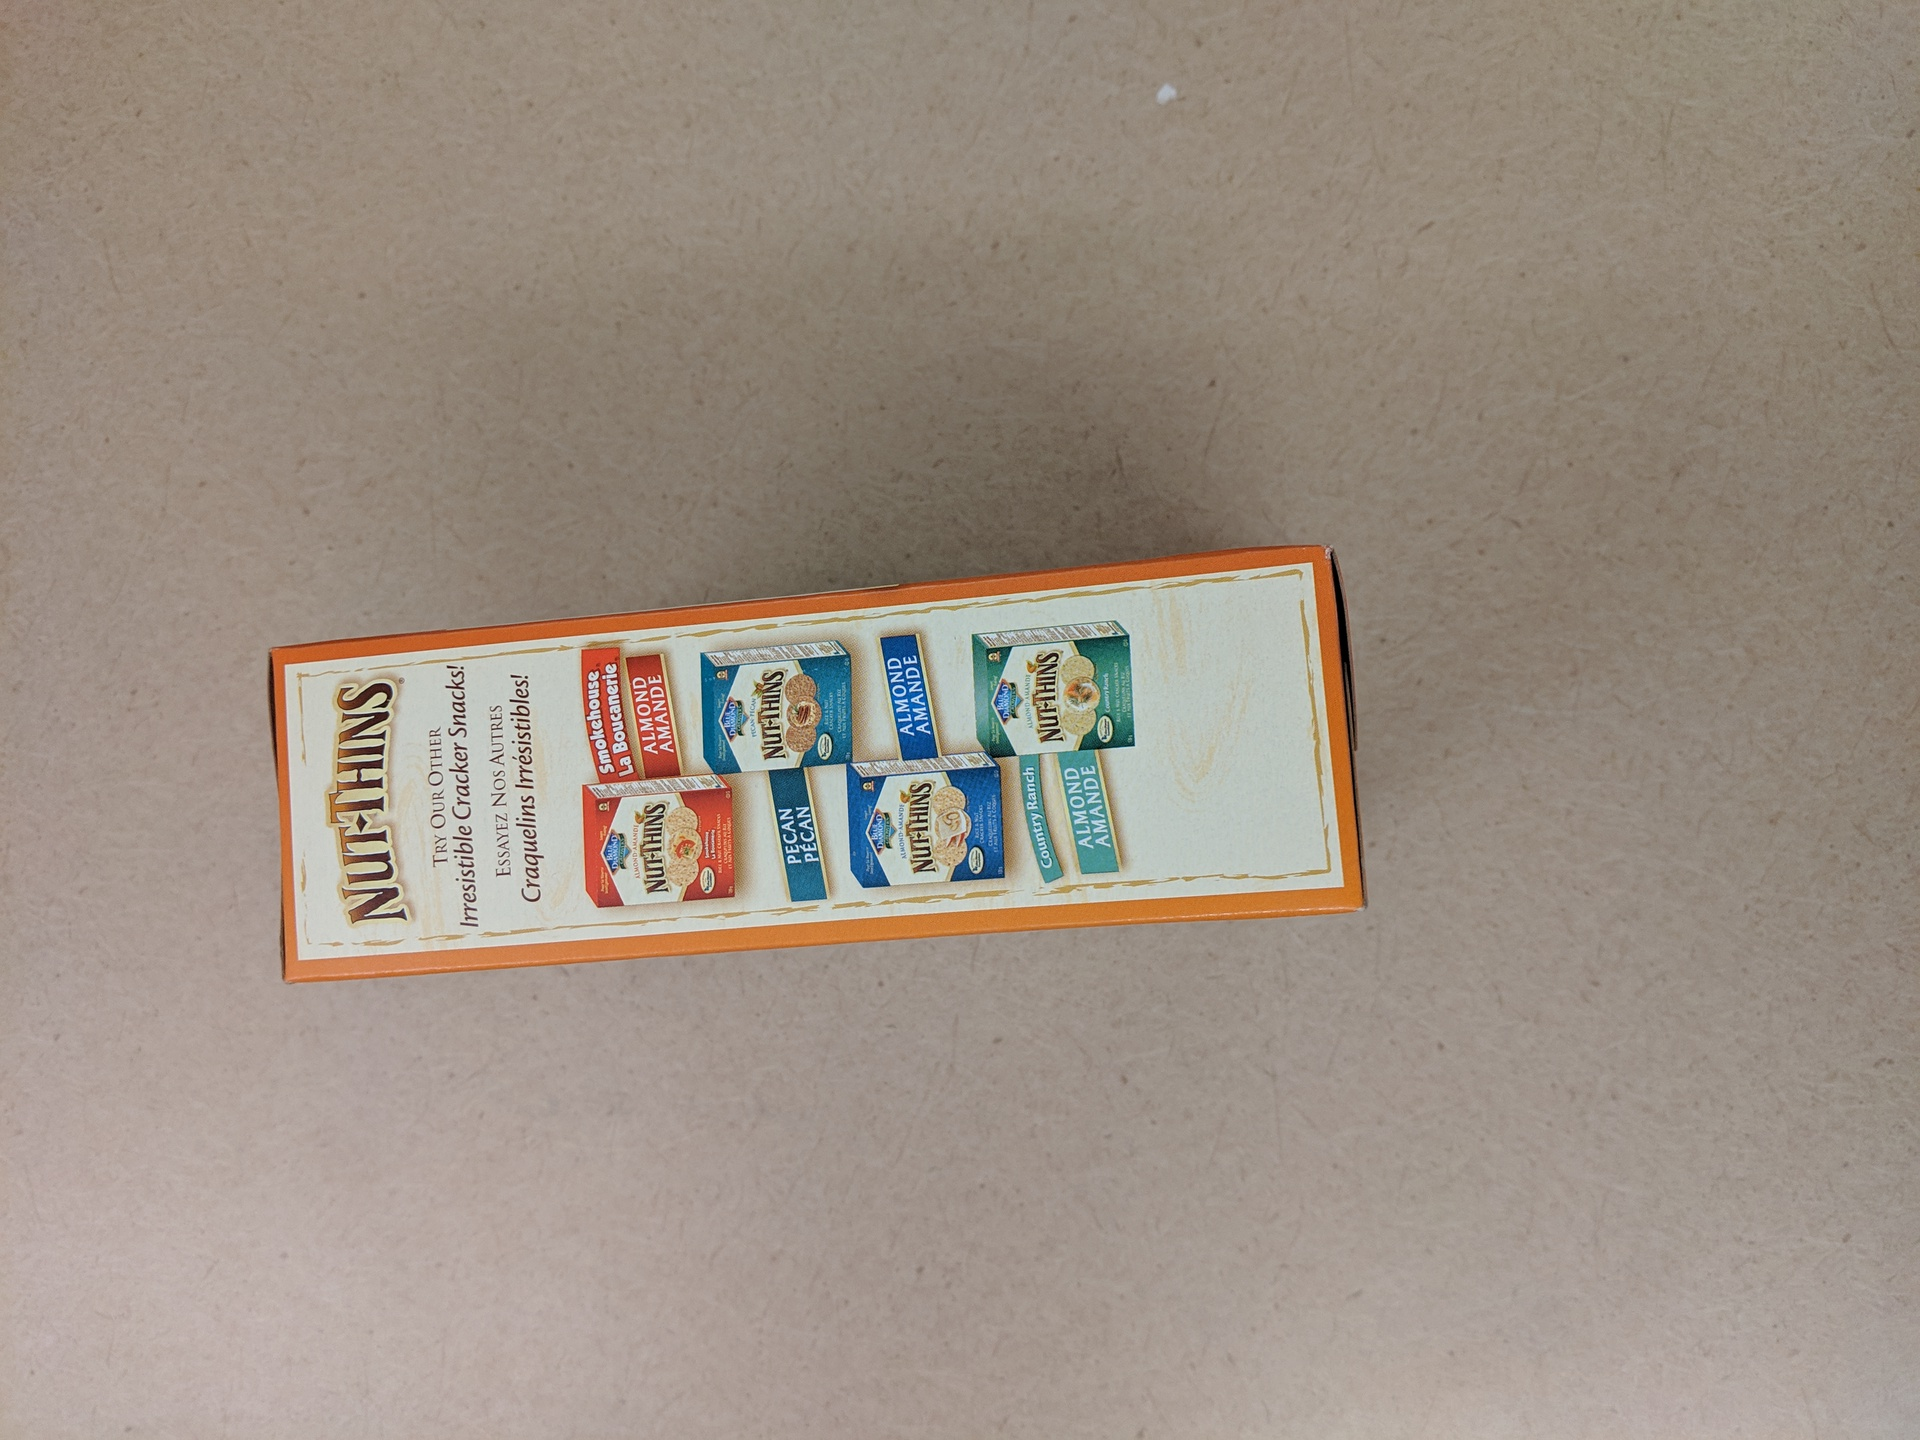blue_diamond_nut_thins_almond_cheddar: (237, 532, 1423, 1001)
